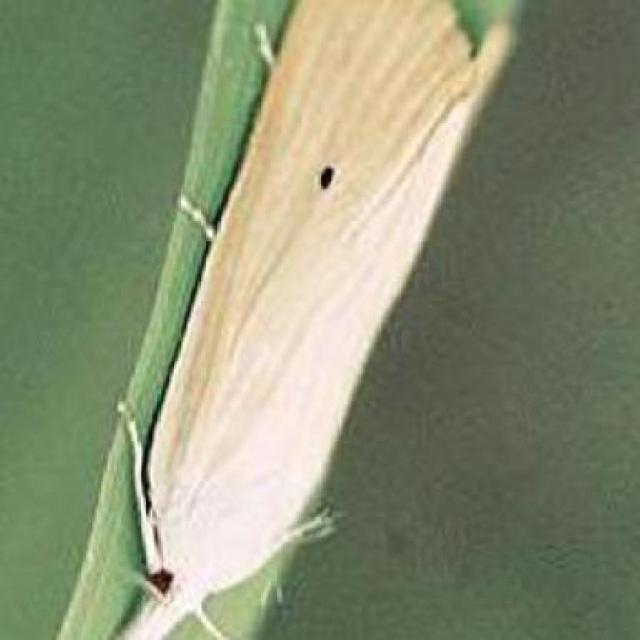stem-borer: (99, 0, 519, 640)
